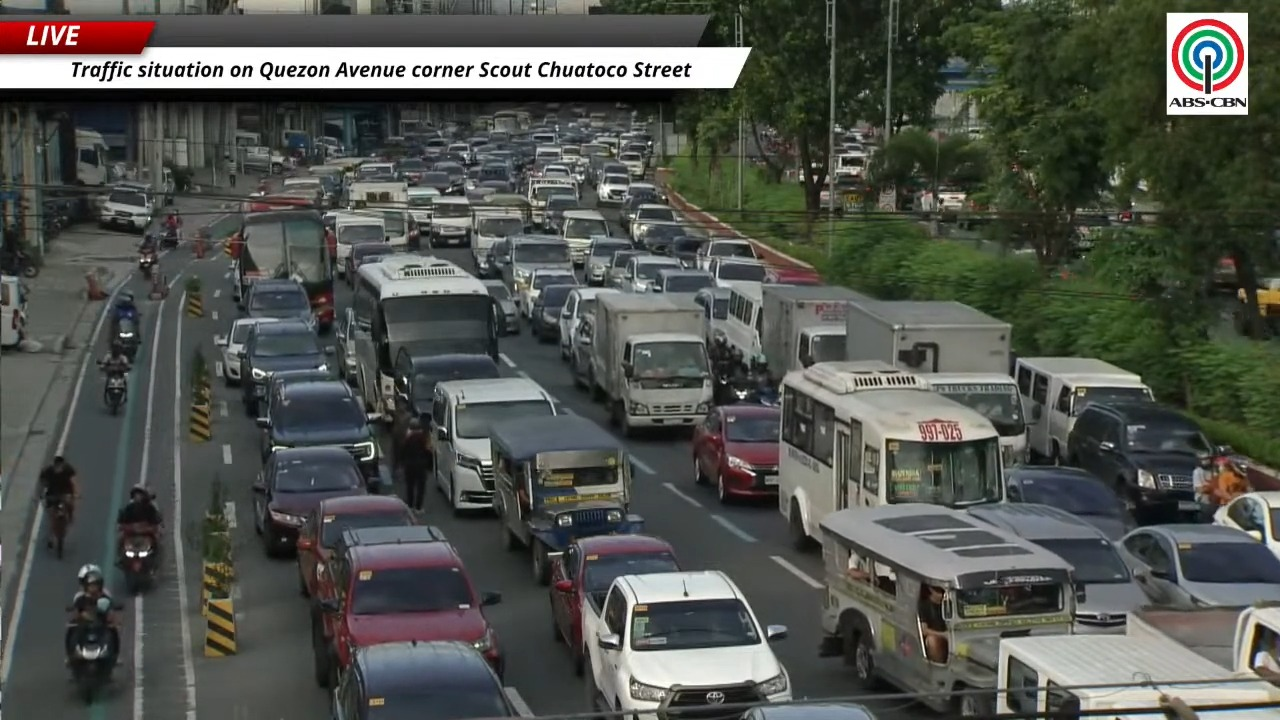bus: (777, 361, 1004, 548), (352, 254, 499, 420), (234, 209, 334, 331), (242, 186, 322, 212), (492, 111, 524, 133)
car: (583, 571, 791, 716), (314, 536, 502, 683), (969, 503, 1147, 633), (550, 534, 681, 675), (1066, 402, 1216, 520), (432, 378, 556, 512), (333, 641, 519, 719), (1119, 524, 1279, 608), (252, 446, 365, 556), (296, 495, 416, 596), (310, 523, 446, 612), (257, 379, 379, 476), (1005, 465, 1135, 540), (392, 348, 500, 436), (238, 320, 331, 417), (692, 404, 780, 502), (501, 235, 573, 304), (558, 287, 617, 360), (1214, 491, 1279, 555), (215, 318, 275, 386), (243, 279, 316, 329), (260, 369, 331, 414), (517, 268, 577, 319), (530, 283, 578, 341), (99, 186, 154, 232), (584, 236, 631, 286), (740, 702, 877, 719), (364, 208, 420, 249), (344, 242, 394, 287), (622, 255, 681, 292), (694, 286, 730, 345), (483, 279, 519, 333), (698, 238, 758, 269), (619, 183, 660, 228), (605, 248, 649, 289), (628, 204, 678, 240), (650, 265, 714, 293), (633, 222, 687, 255), (334, 307, 357, 384), (706, 257, 767, 286), (541, 194, 582, 234), (478, 238, 510, 284), (668, 235, 707, 269), (765, 265, 823, 285), (432, 161, 465, 194), (597, 175, 629, 204), (396, 157, 427, 185), (418, 170, 451, 194), (618, 152, 646, 179)
motorcycle: (68, 618, 114, 703), (120, 524, 155, 594), (49, 499, 69, 559), (115, 318, 140, 361), (0, 249, 38, 277), (111, 298, 139, 333), (104, 372, 126, 414), (138, 251, 157, 279), (160, 226, 179, 249)
truck: (992, 635, 1279, 719), (588, 293, 711, 435), (846, 300, 1011, 374), (922, 372, 1038, 466), (1126, 603, 1279, 673), (760, 284, 871, 378), (75, 128, 111, 186), (347, 181, 408, 210)
